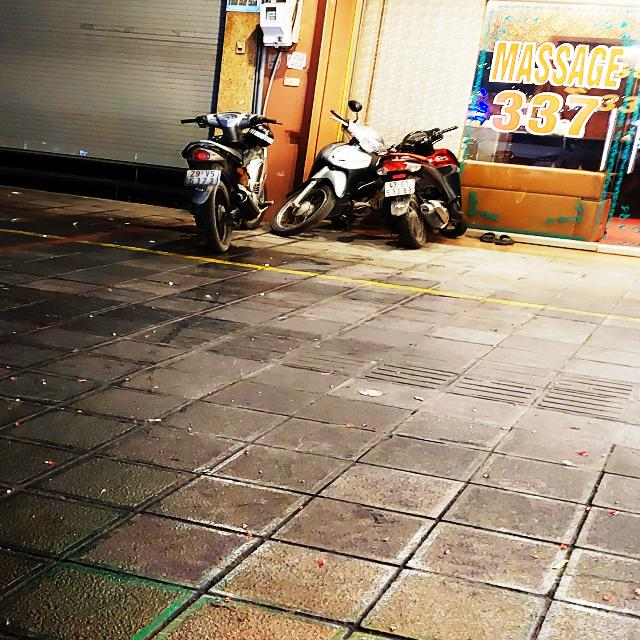license_plate: (184, 169, 223, 187), (385, 178, 416, 198)
